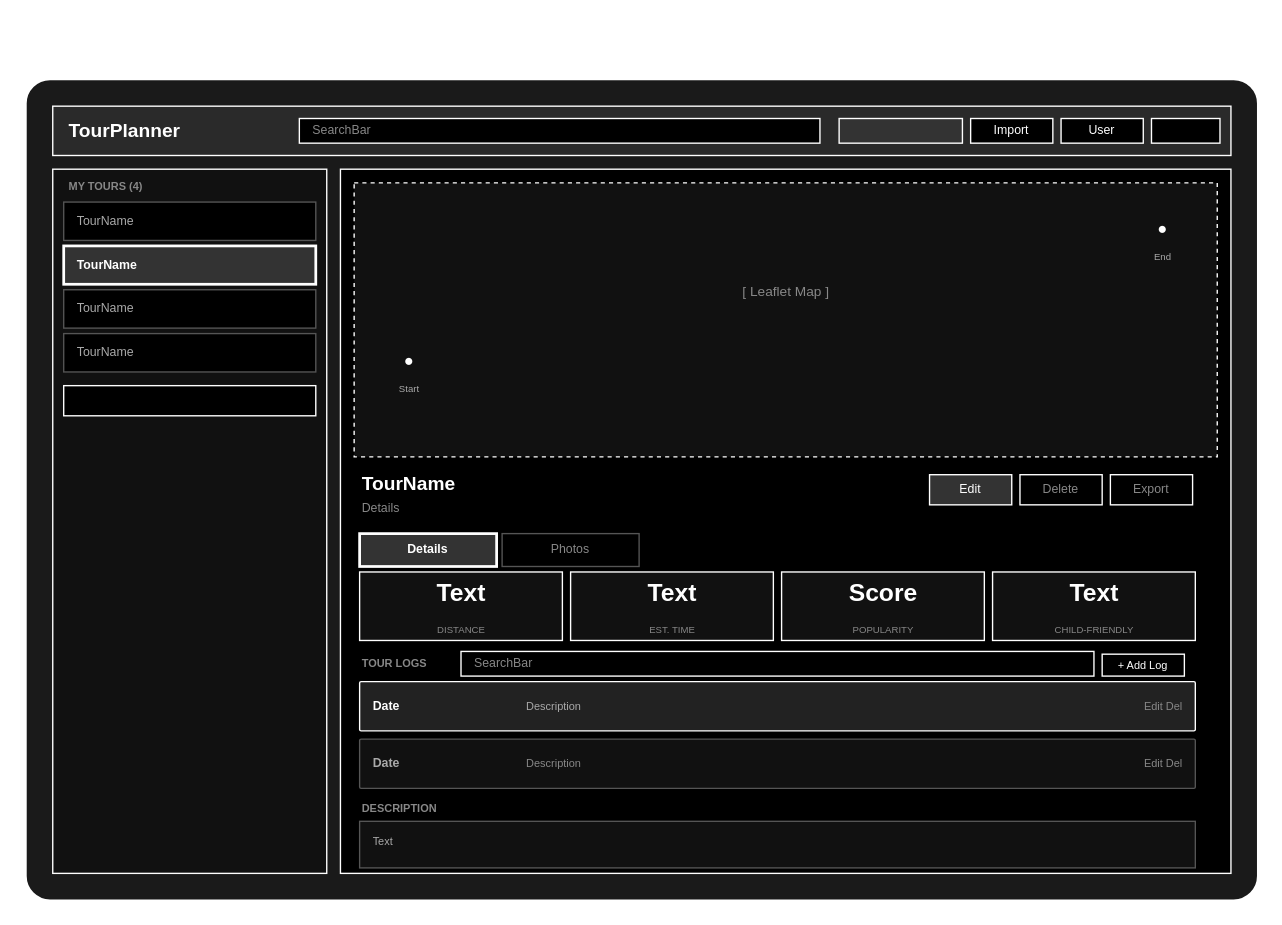
Image size: 1282x925. Some labels were removed from this diagram. The box of each missing label's shape, as (x1, y1, x2, y2) in pixels:
+ Add Tour: (62, 384, 316, 416)
+ New Tour: (838, 117, 962, 143)
Logout: (1150, 117, 1220, 143)
